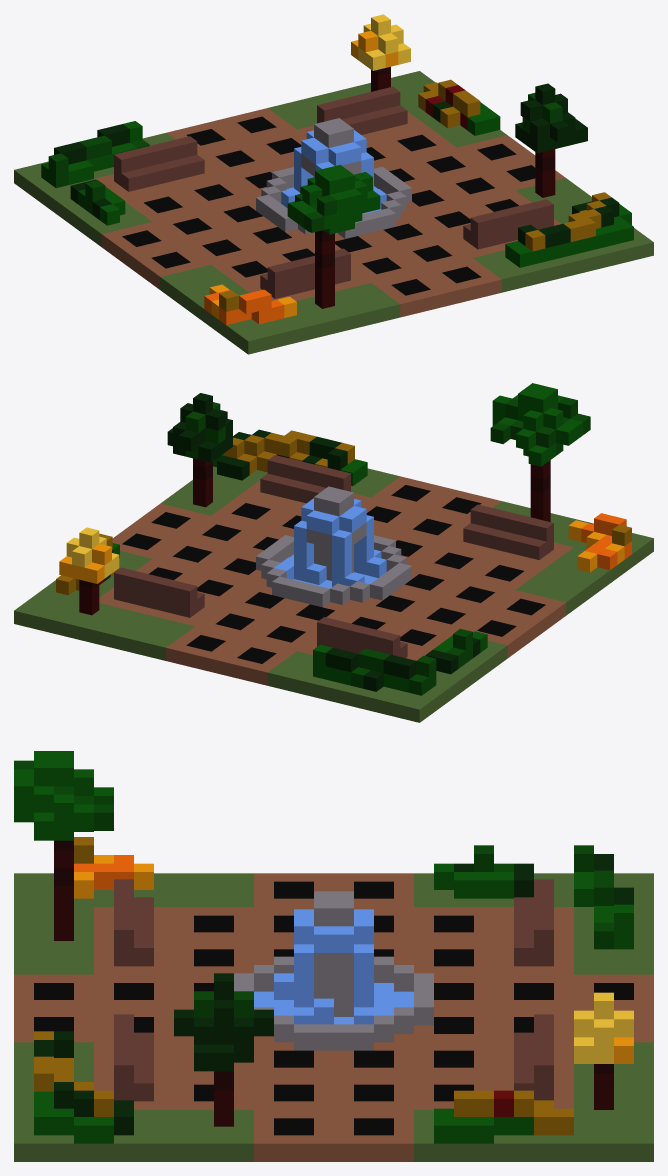
File: townSquareMagica.obj
3 renders of one model, top to bottom at view 1: azimuth 30°, elevation 25°; view 2: azimuth 150°, elevation 25°; view 3: azimuth 270°, elevation 25°, orthographic. The views are drawn at different scales.
Bounding box in the file's own units: 25.6 × 8.8 × 25.6.
Materials: 1 (1 with a texture image).
